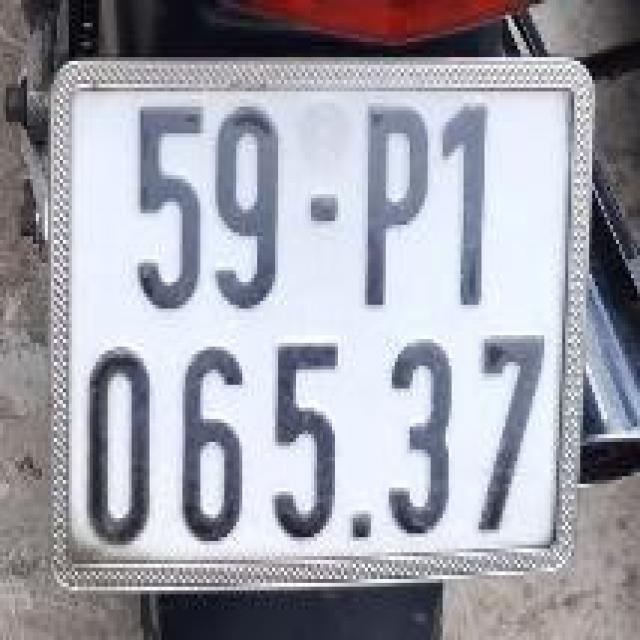0: (82, 337, 163, 558)
1: (438, 95, 489, 309)
3: (380, 318, 466, 543)
5: (129, 91, 212, 320), (269, 329, 347, 546)
6: (176, 334, 252, 550)
7: (473, 318, 553, 551)
9: (212, 103, 284, 316)
P: (353, 86, 434, 310)
